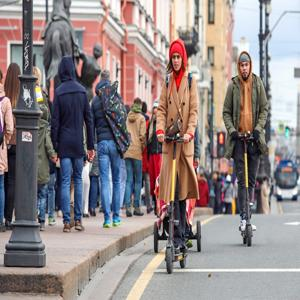human on a scooter: (154, 37, 199, 274), (222, 50, 269, 248)
